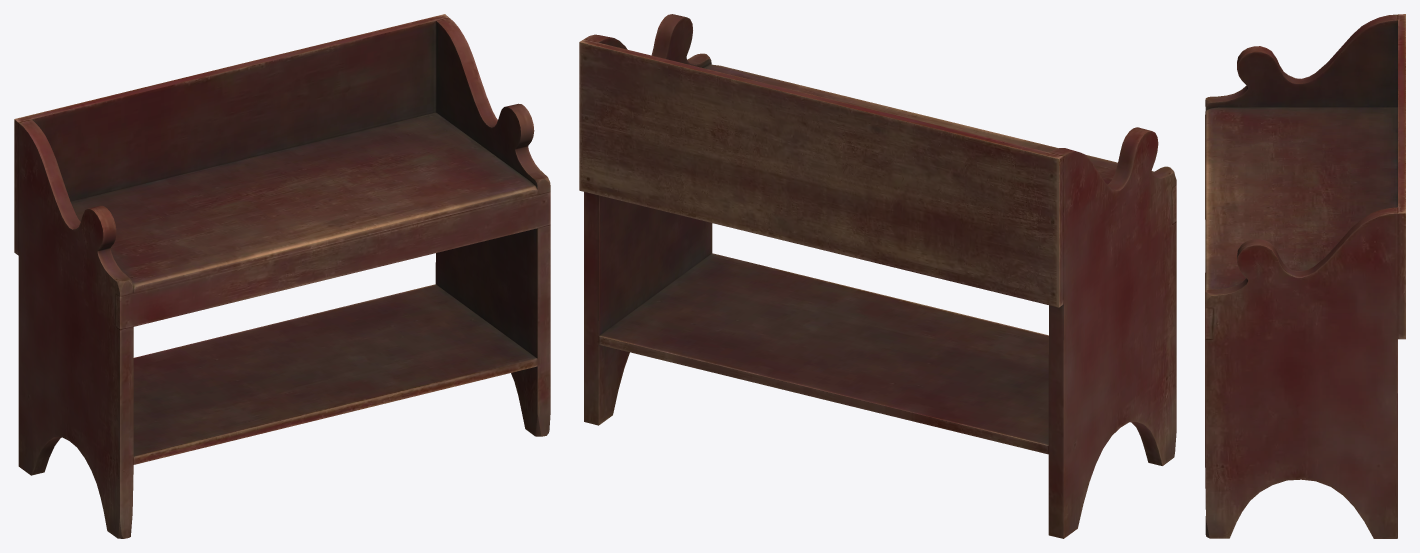
Rendered from painted_wooden_bench.glb.
3 views of the same model, side by side, from view 1: azimuth 30°, elevation 25°; view 2: azimuth 150°, elevation 25°; view 3: azimuth 270°, elevation 25° (orthographic). The views are drawn at different scales.
Parts seen in each view (by area): view 1: painted_wooden_bench; view 2: painted_wooden_bench; view 3: painted_wooden_bench.
Boxes of the visible parts, <box> form: painted_wooden_bench: <box>14,14,550,538</box>; painted_wooden_bench: <box>579,14,1176,538</box>; painted_wooden_bench: <box>1205,14,1405,538</box>.
Size of the model in its own units: 1.16 by 0.8893 by 0.4965.
1 material, 1 textured.
